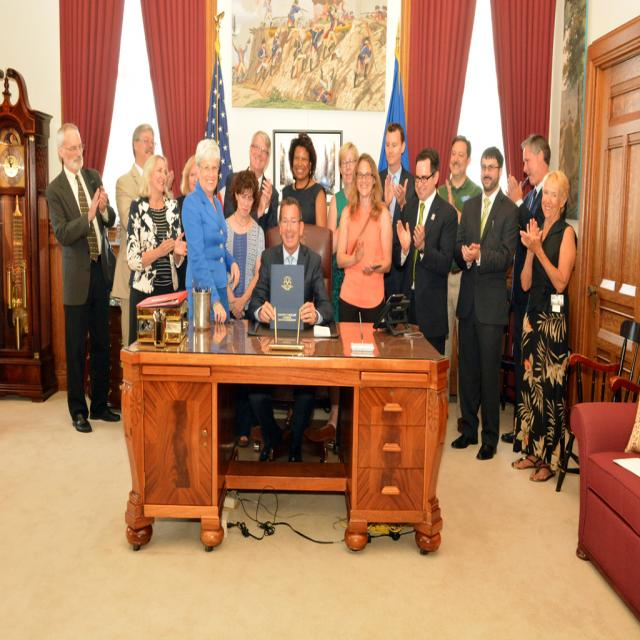desk: (115, 304, 454, 553)
person: (46, 122, 120, 431), (452, 146, 518, 459), (517, 170, 578, 480), (222, 170, 268, 450), (125, 151, 185, 340), (182, 140, 236, 330), (334, 154, 392, 325), (224, 128, 280, 243), (280, 134, 328, 227), (437, 133, 482, 228)
